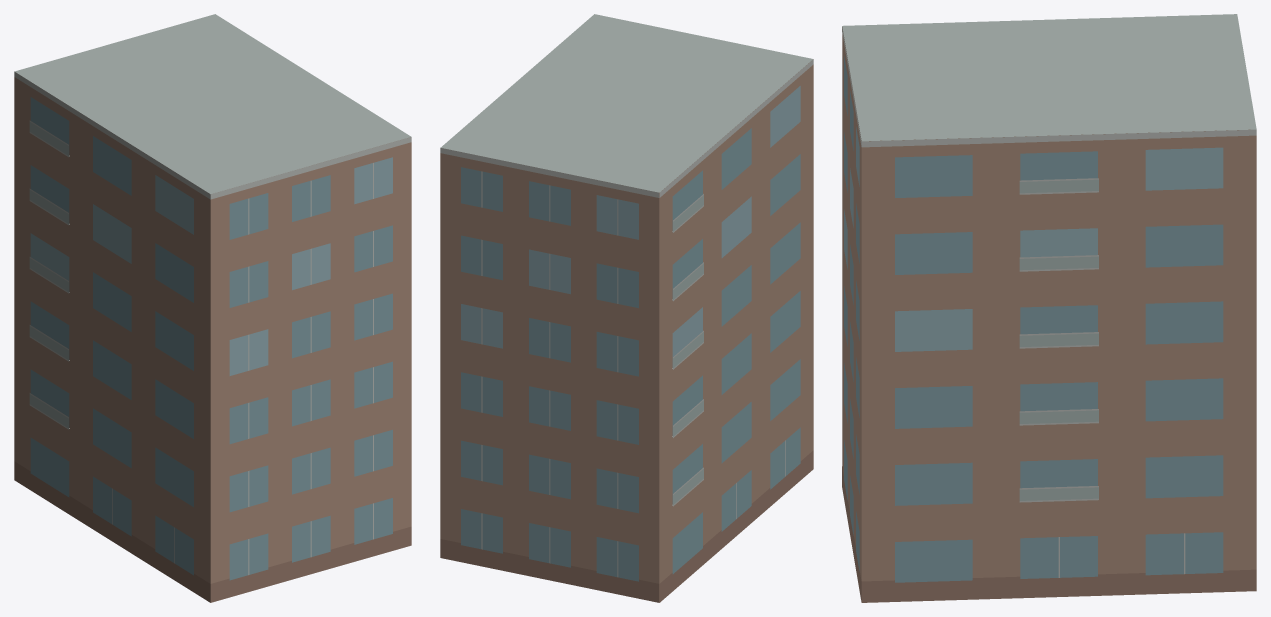
Rendered from survey-upis-32673823.glb.
3 renders of one model, left to right at view 1: azimuth 30°, elevation 25°; view 2: azimuth 150°, elevation 25°; view 3: azimuth 270°, elevation 25°, orthographic. The views are drawn at different scales.
Parts seen in each view (by area): view 1: survey-upis-32673823.tmp; view 2: survey-upis-32673823.tmp; view 3: survey-upis-32673823.tmp.
Boxes of the visible parts, left/top/right/bottom form: survey-upis-32673823.tmp: left=14, top=14, right=411, bottom=602; survey-upis-32673823.tmp: left=440, top=14, right=813, bottom=602; survey-upis-32673823.tmp: left=842, top=14, right=1256, bottom=602.
Size of the model in its own units: 11.01 by 18.6 by 15.15.
